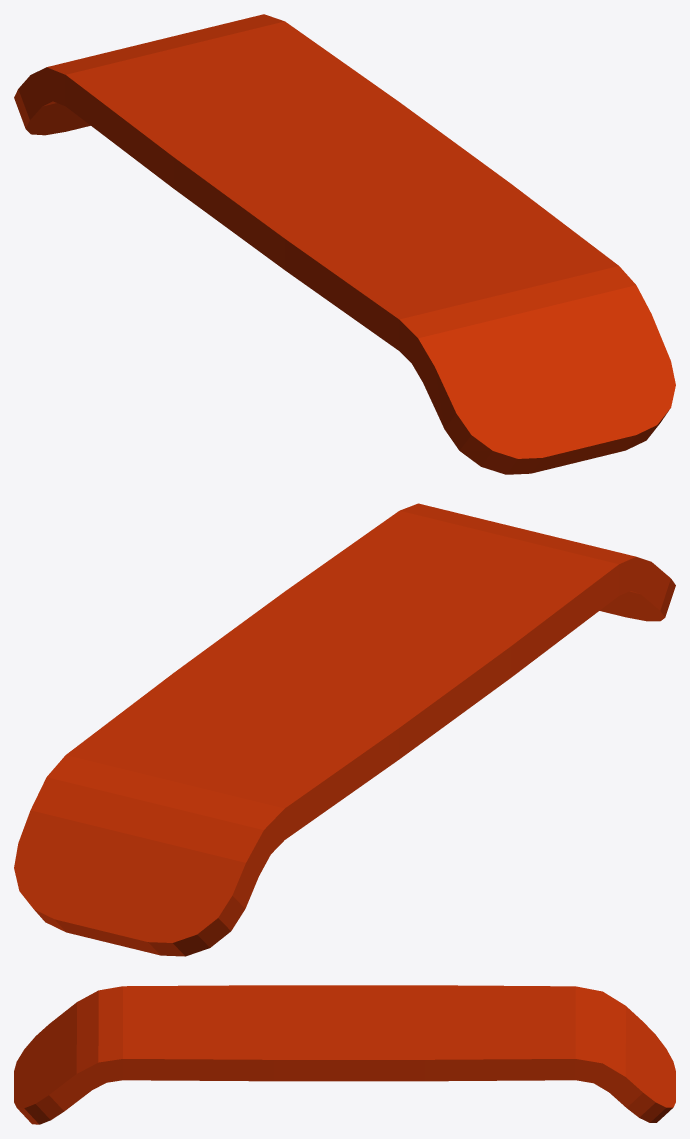
File: original-4.obj
3 renders of one model, top to bottom at view 1: azimuth 30°, elevation 25°; view 2: azimuth 150°, elevation 25°; view 3: azimuth 270°, elevation 25°, orthographic. The views are drawn at different scales.
Visible parts, largest first — view 1: mesh4/mesh4-geometry#mesh4-geometry; view 2: mesh4/mesh4-geometry#mesh4-geometry; view 3: mesh4/mesh4-geometry#mesh4-geometry.
Part boxes in pixels (x1,y1,x2,y2): mesh4/mesh4-geometry#mesh4-geometry: [14, 14, 675, 474]; mesh4/mesh4-geometry#mesh4-geometry: [14, 503, 675, 956]; mesh4/mesh4-geometry#mesh4-geometry: [14, 985, 675, 1124].
Size of the model in its own units: 0.1176 by 0.0591 by 0.4403.
